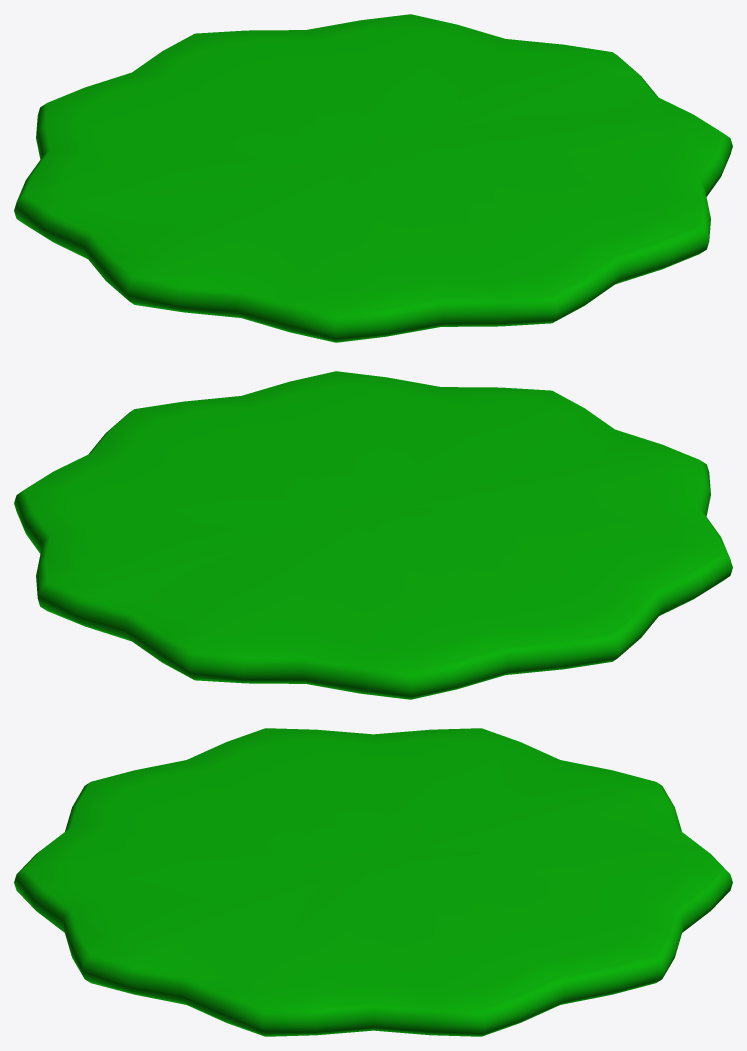
Rendered from LechugaPreparada.fbx.
3 views of the same model, one above another, from view 1: azimuth 30°, elevation 25°; view 2: azimuth 150°, elevation 25°; view 3: azimuth 270°, elevation 25° (orthographic). The views are drawn at different scales.
Visible parts, largest first — view 1: pCylinder66; view 2: pCylinder66; view 3: pCylinder66.
Boxes of the visible parts, x1,y1,x2,y2 form: pCylinder66: (14,14,732,342); pCylinder66: (14,371,732,699); pCylinder66: (14,728,732,1036).
Size of the model in its own units: 4.73 by 0.3672 by 4.97.
